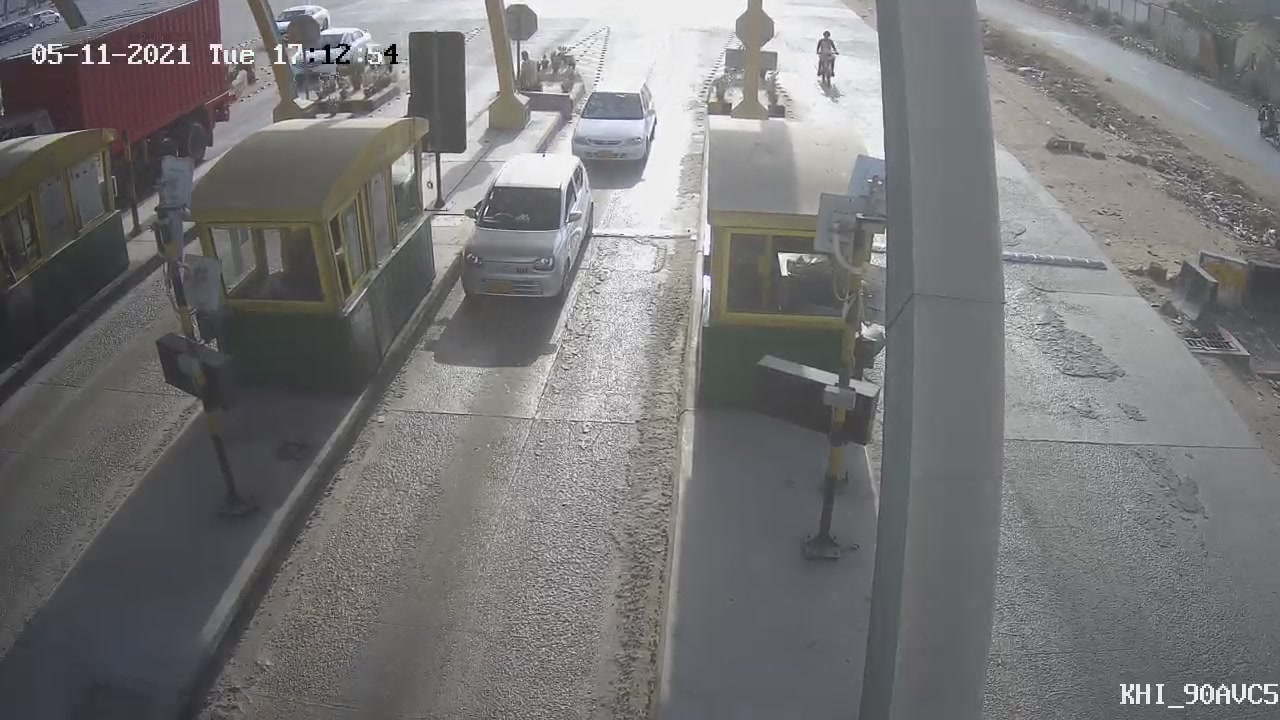F1: (442, 139, 613, 321), (552, 60, 673, 192)
